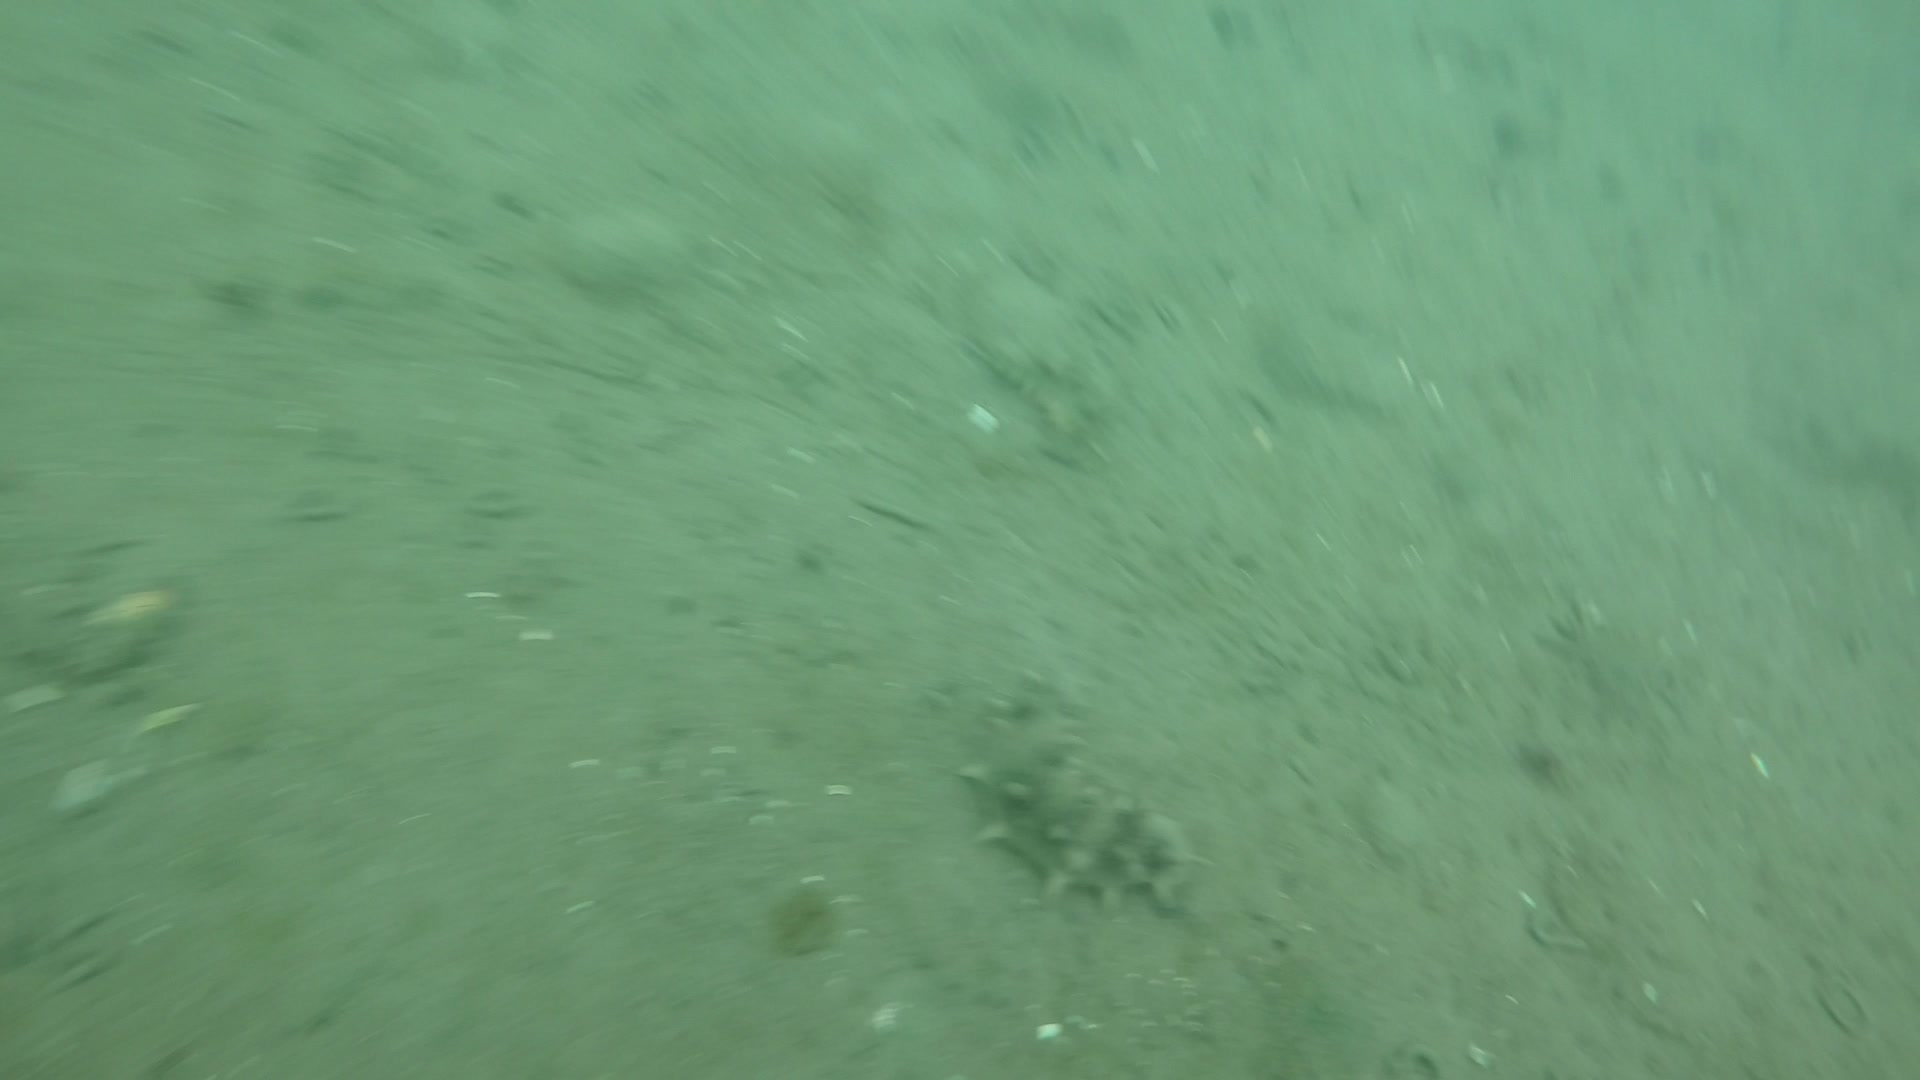holothurian: (967, 669, 1211, 911)
scallop: (44, 764, 127, 816)
